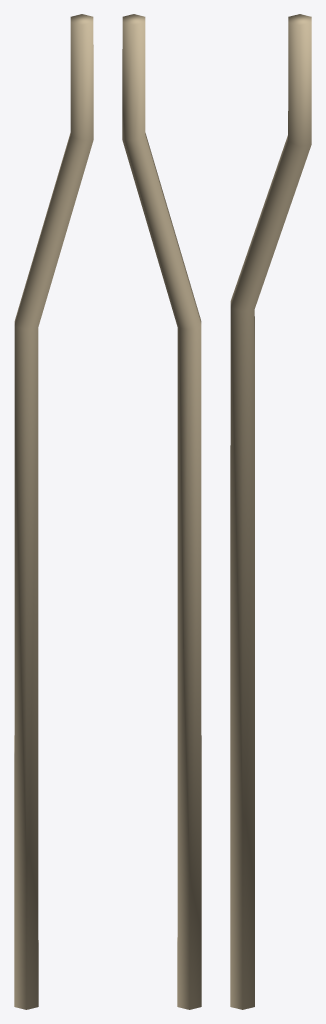
File: pipe.glb
3 renders of one model, left to right at view 1: azimuth 30°, elevation 25°; view 2: azimuth 150°, elevation 25°; view 3: azimuth 330°, elevation 25°, orthographic. The views are drawn at different scales.
Parts seen in each view (by area): view 1: WB002V2_ExposedPipe.005; view 2: WB002V2_ExposedPipe.005; view 3: WB002V2_ExposedPipe.005.
Boxes of the visible parts, x1,y1,x2,y2 form: WB002V2_ExposedPipe.005: (14,14,93,1009); WB002V2_ExposedPipe.005: (122,14,201,1009); WB002V2_ExposedPipe.005: (230,14,311,1009).
Size of the model in its own units: 0.4262 by 5 by 0.1126.
